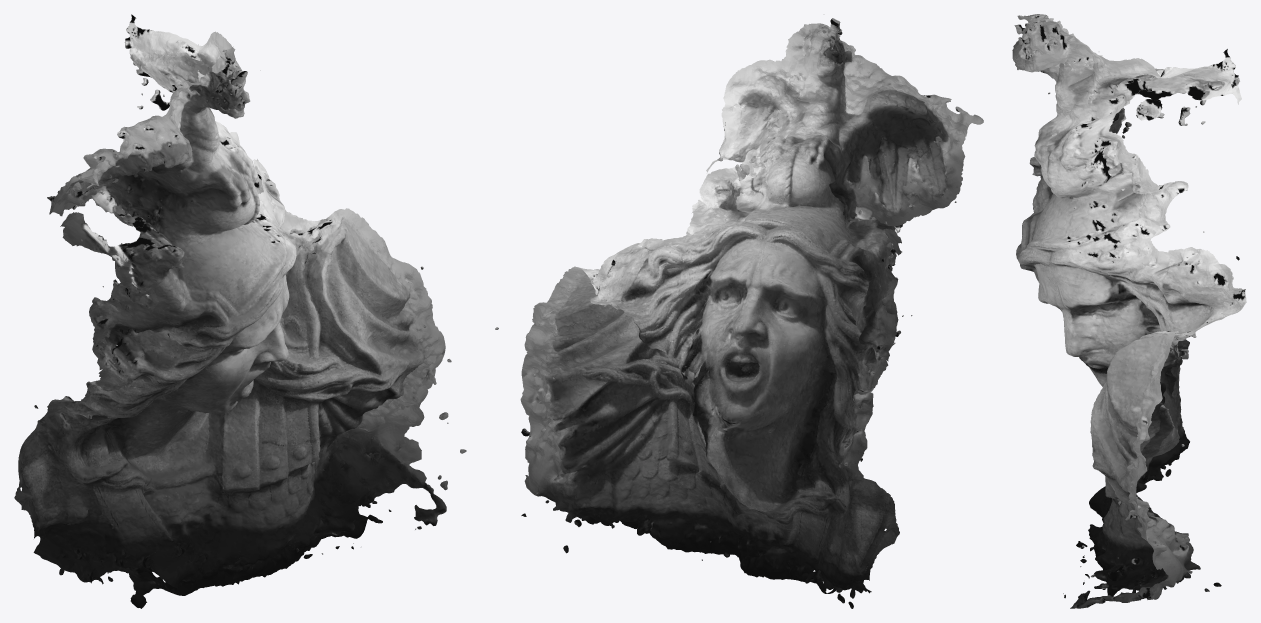
The model's file is lama.glb.
The picture shows the model from 3 angles, left to right: view 1: azimuth 30°, elevation 25°; view 2: azimuth 150°, elevation 25°; view 3: azimuth 270°, elevation 25°; orthographic projection. The views are drawn at different scales.
Parts seen in each view (by area): view 1: Object_2; view 2: Object_2; view 3: Object_2.
Boxes of the visible parts, x1,y1,x2,y2 form: Object_2: (14,14,466,608); Object_2: (495,14,983,608); Object_2: (1012,14,1246,608).
Bounding box in the file's own units: 0.7198 × 0.9059 × 0.3678.
1 material, 1 textured.
